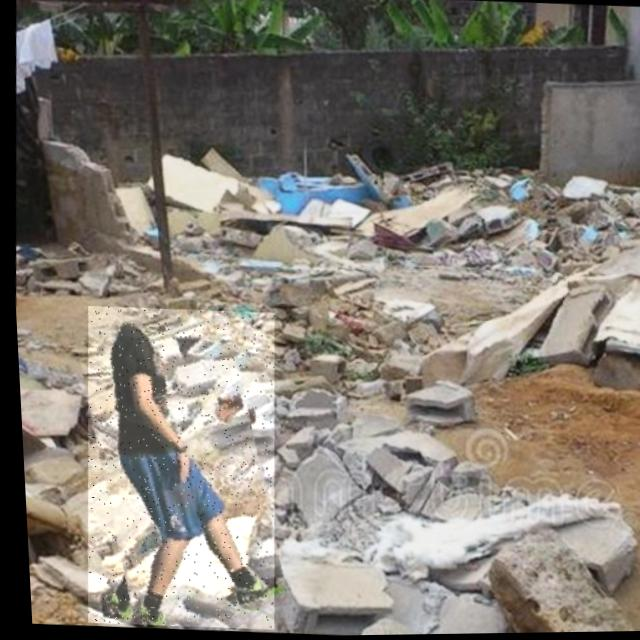Person in Rubble: (69, 304, 284, 632)
